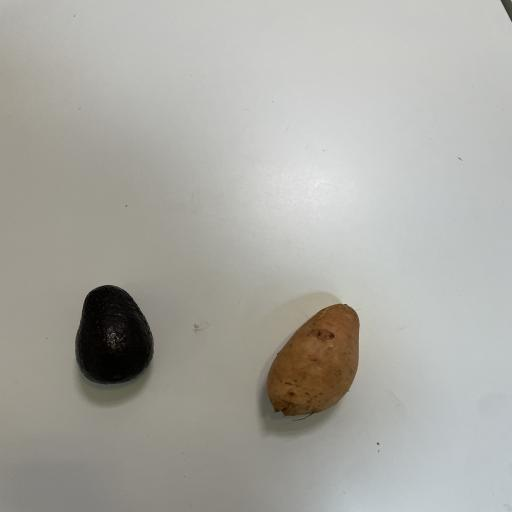avocado: (63, 280, 165, 386)
sweet_potato: (253, 296, 373, 420)
